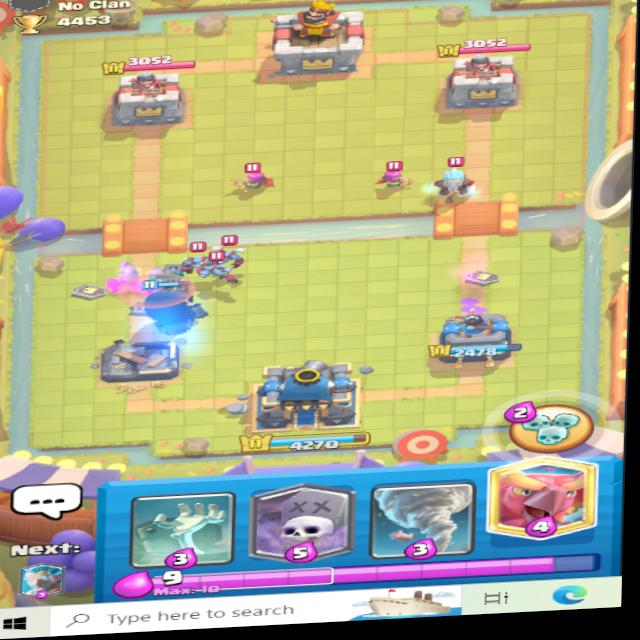archer: (221, 155, 282, 198), (365, 152, 418, 195)
ice-wizard: (425, 156, 492, 211)
minion: (199, 253, 246, 292), (214, 238, 261, 272), (171, 239, 209, 275)
